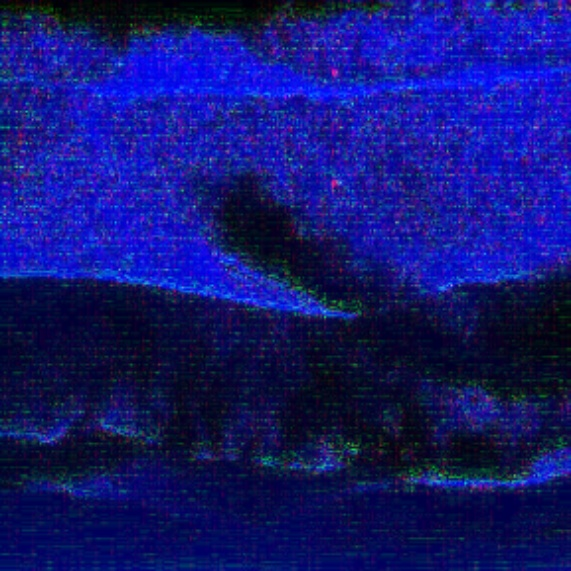rip_current: (173, 150, 460, 378)
